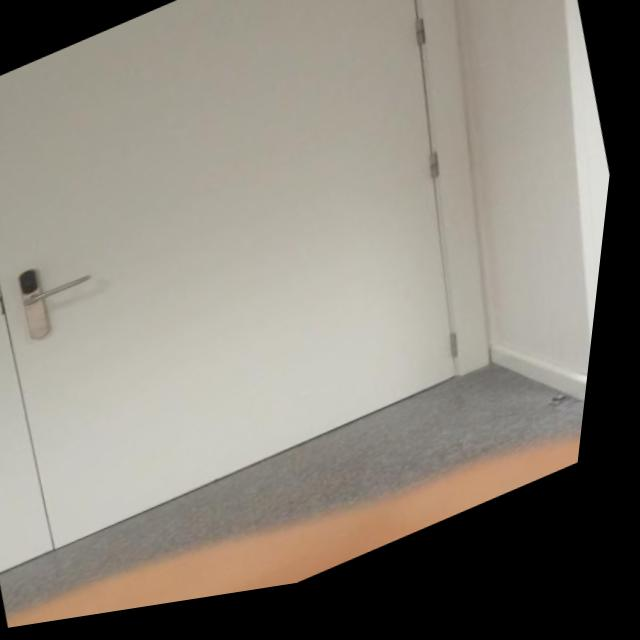door_handle: (27, 272, 103, 313)
